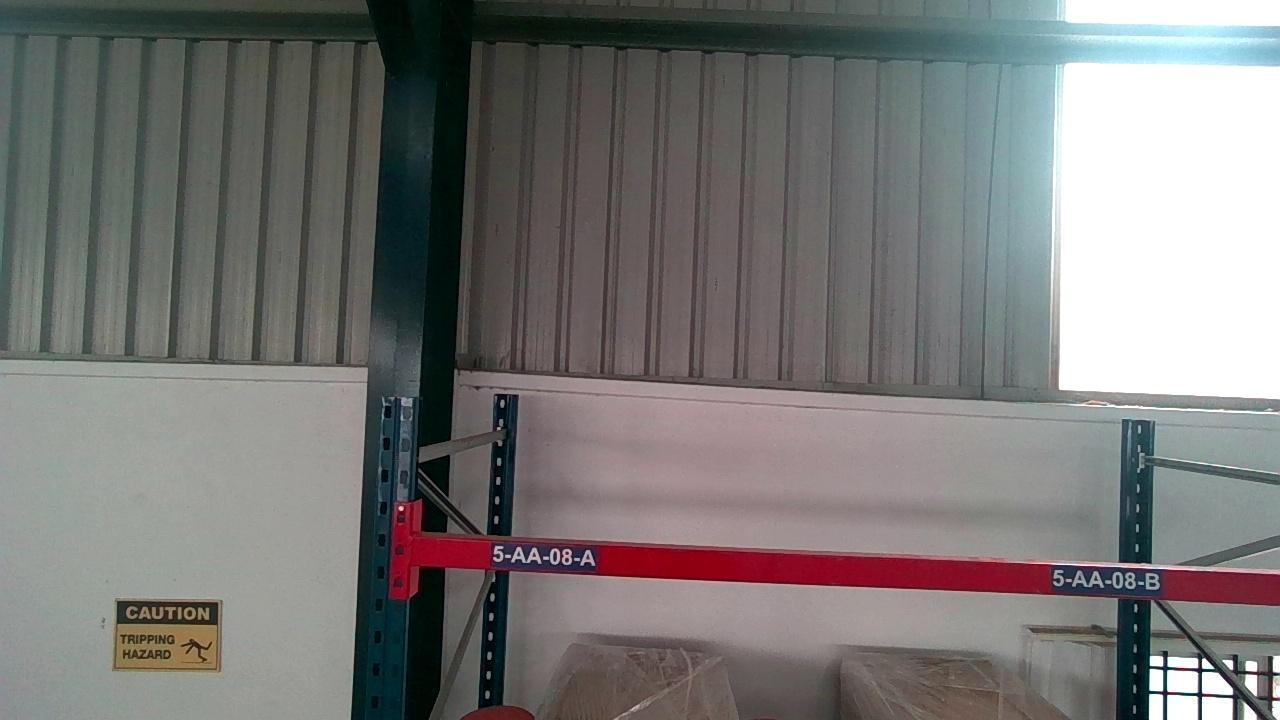h_rack: (414, 537, 1280, 602)
